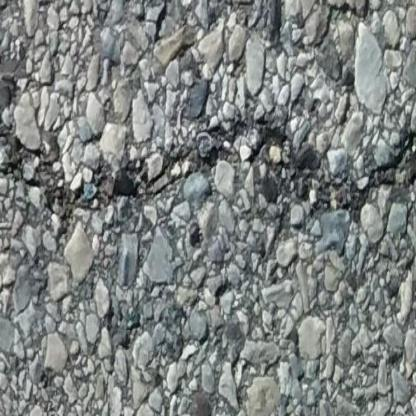Cracks: (0, 115, 416, 260)
